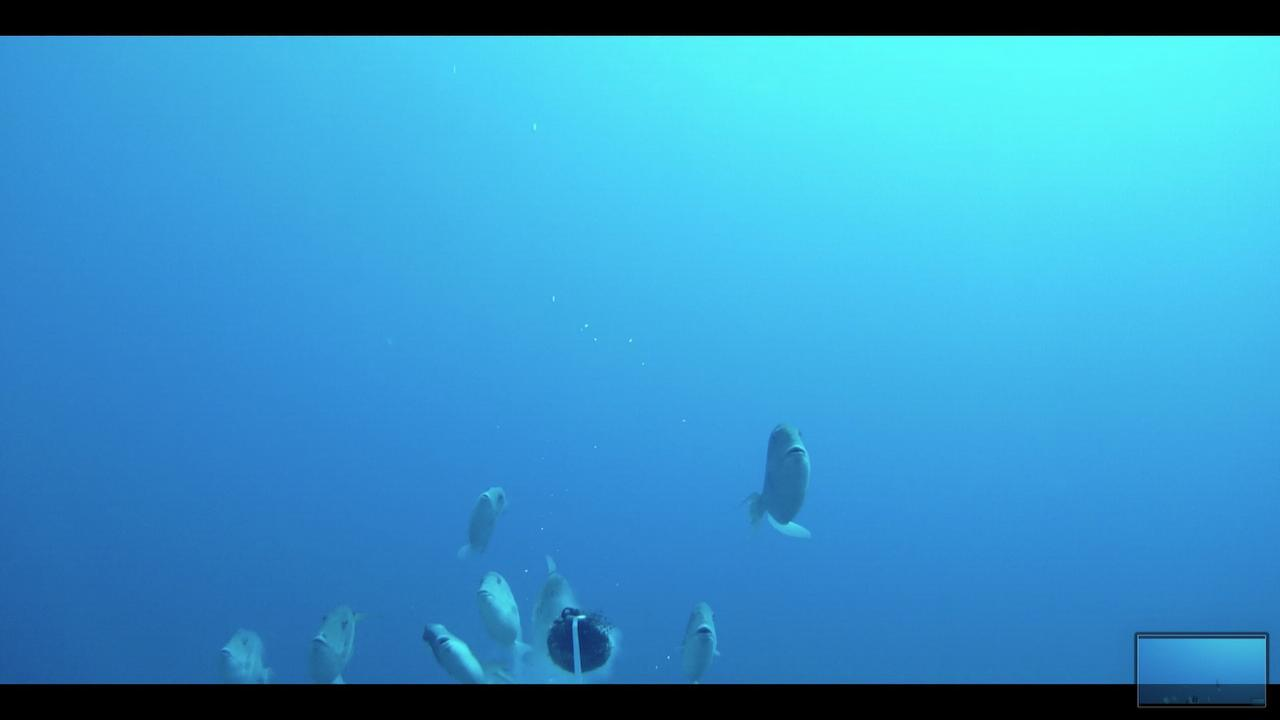balistes: (743, 419, 825, 543), (472, 569, 543, 670), (662, 591, 731, 687), (304, 595, 375, 685), (450, 482, 518, 566), (411, 611, 487, 683), (213, 617, 289, 685)
